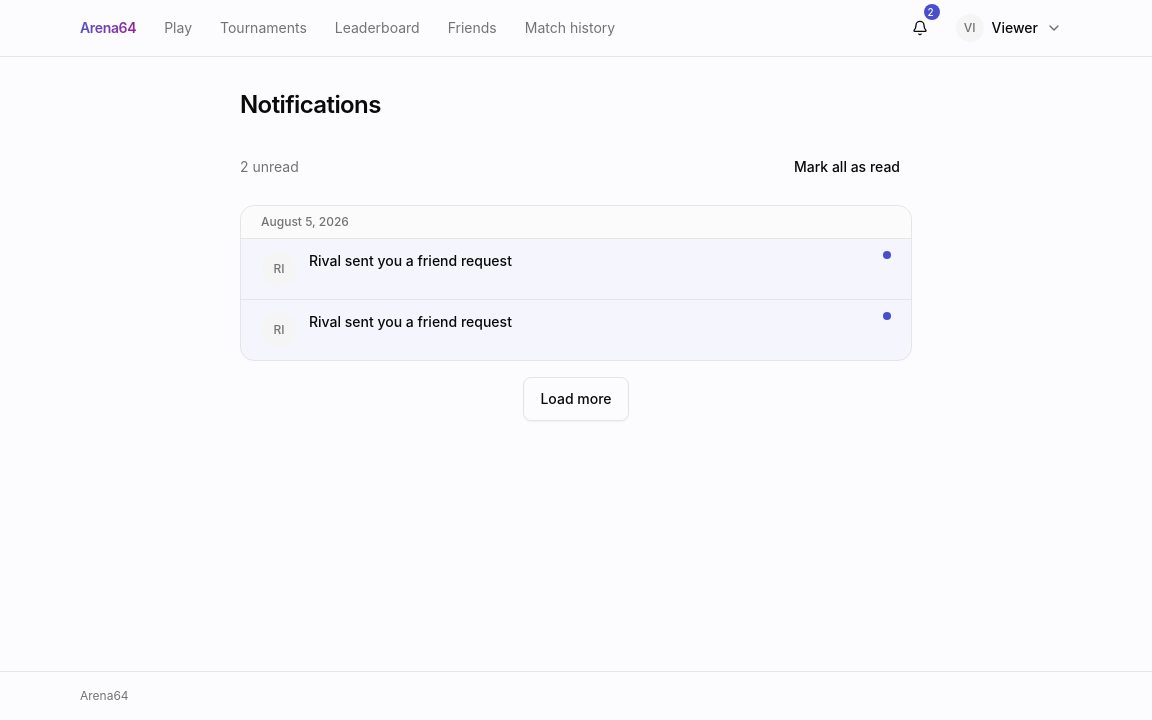
reads one page per request and never a profile per row
The width and height of the screenshot is (1152, 720).
Click the button "Load more". click: (576, 399)
box: [523,377,628,421]
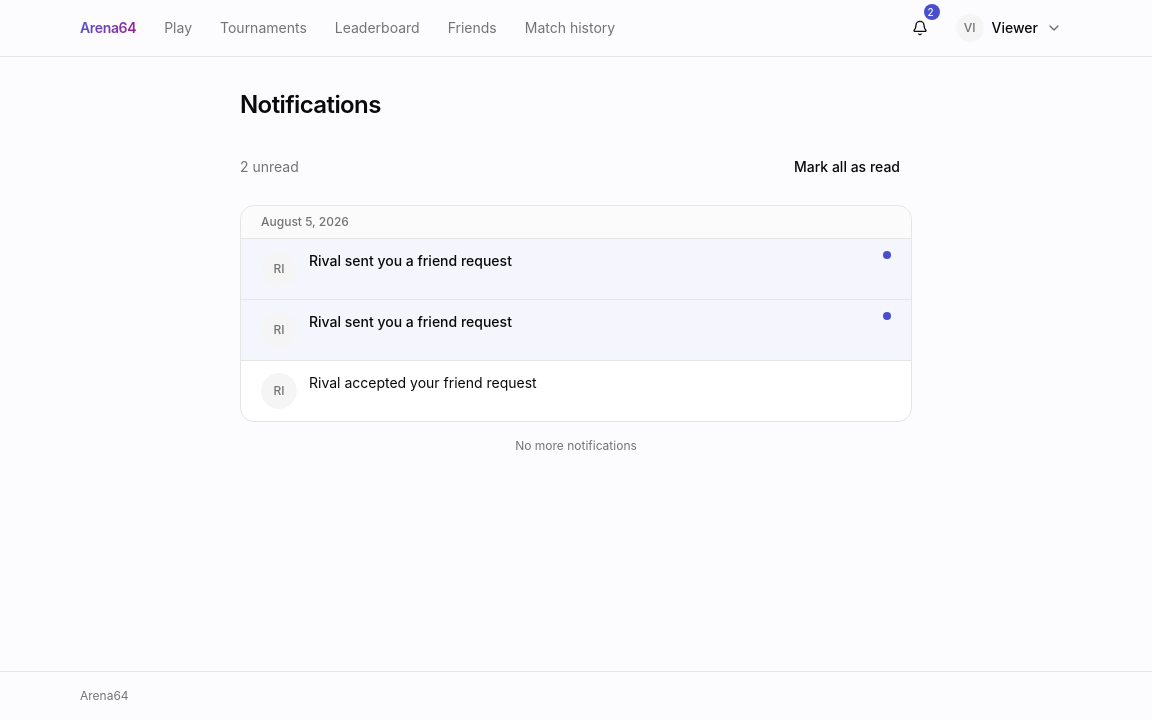
Check: the button "Load more" is gone
Check: the text "No more notifications" is shown, box [515,438,637,453]
